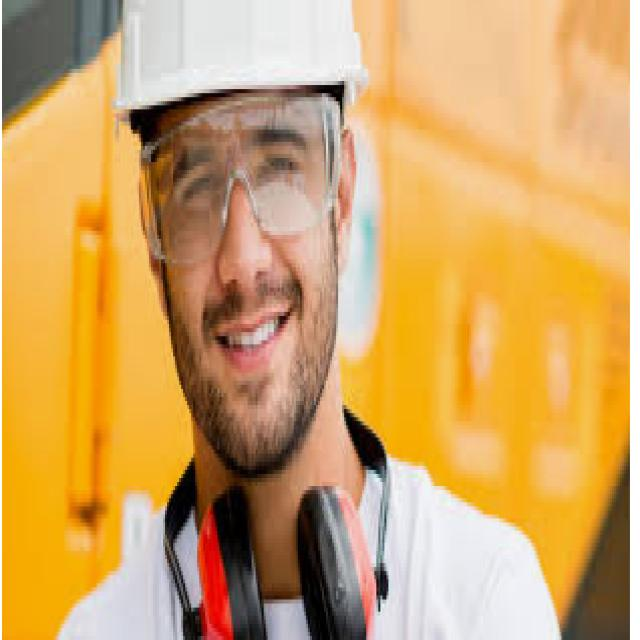glasses: (129, 106, 334, 257)
